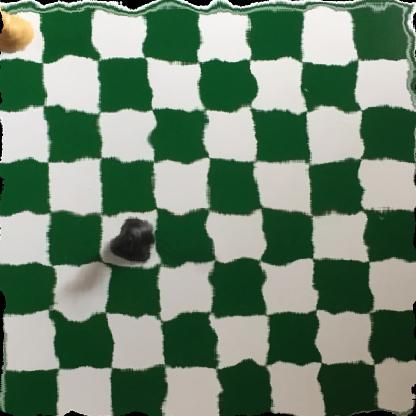black-queen: (111, 214, 159, 262)
white-queen: (0, 0, 34, 56)
